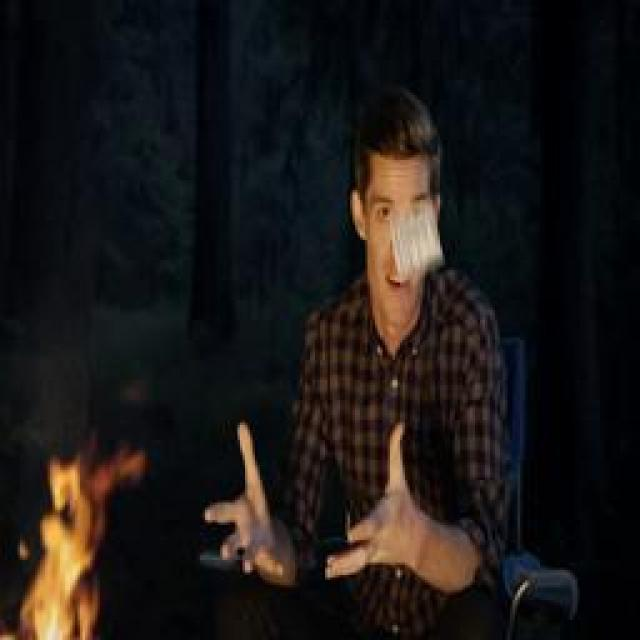Fire: (18, 450, 140, 640)
